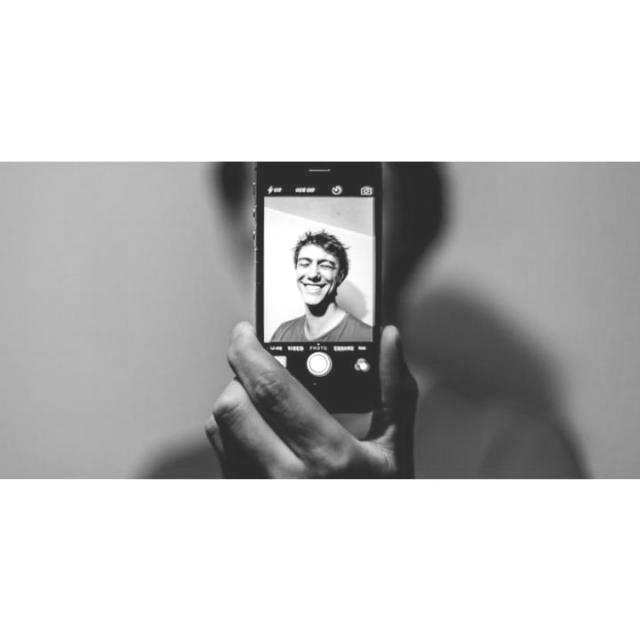fake: (254, 161, 389, 411)
